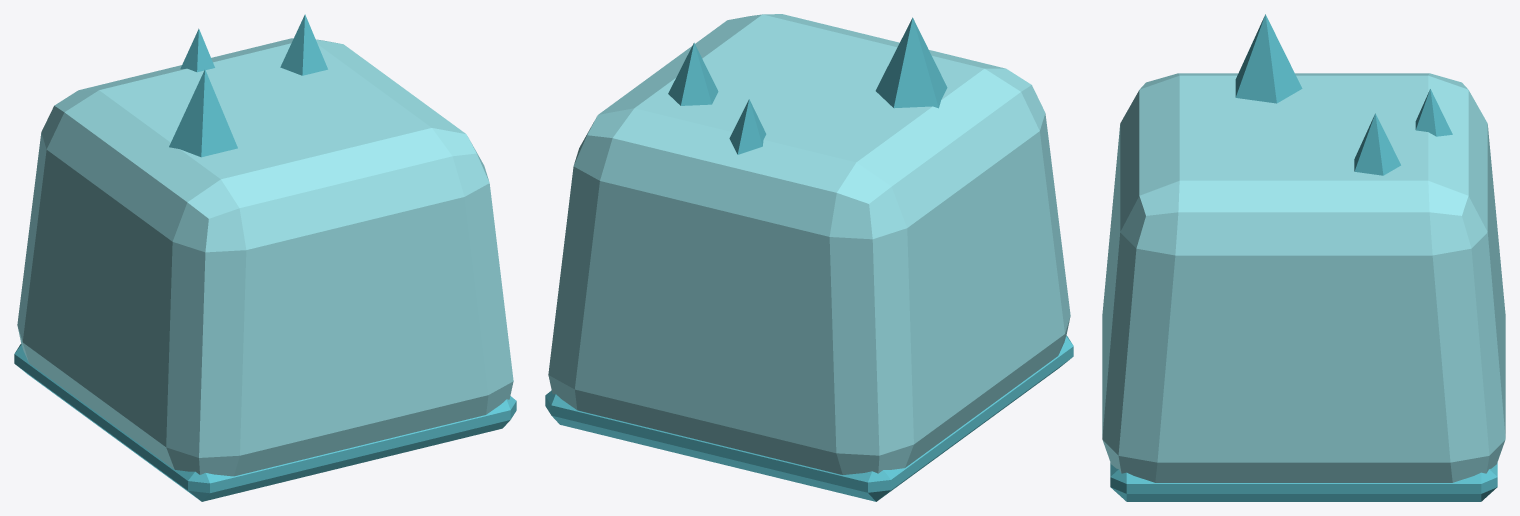
The model's file is pkg_ice_1x1.glb.
3 renders of one model, left to right at view 1: azimuth 30°, elevation 25°; view 2: azimuth 150°, elevation 25°; view 3: azimuth 270°, elevation 25°, orthographic. The views are drawn at different scales.
Parts seen in each view (by area): view 1: PkgIce1x1; view 2: PkgIce1x1; view 3: PkgIce1x1.
Part boxes in pixels (left/top/right/bottom): PkgIce1x1: left=14, top=14, right=516, bottom=501; PkgIce1x1: left=545, top=14, right=1073, bottom=501; PkgIce1x1: left=1102, top=14, right=1505, bottom=501.
Size of the model in its own units: 0.0734 by 0.075 by 0.0734.
